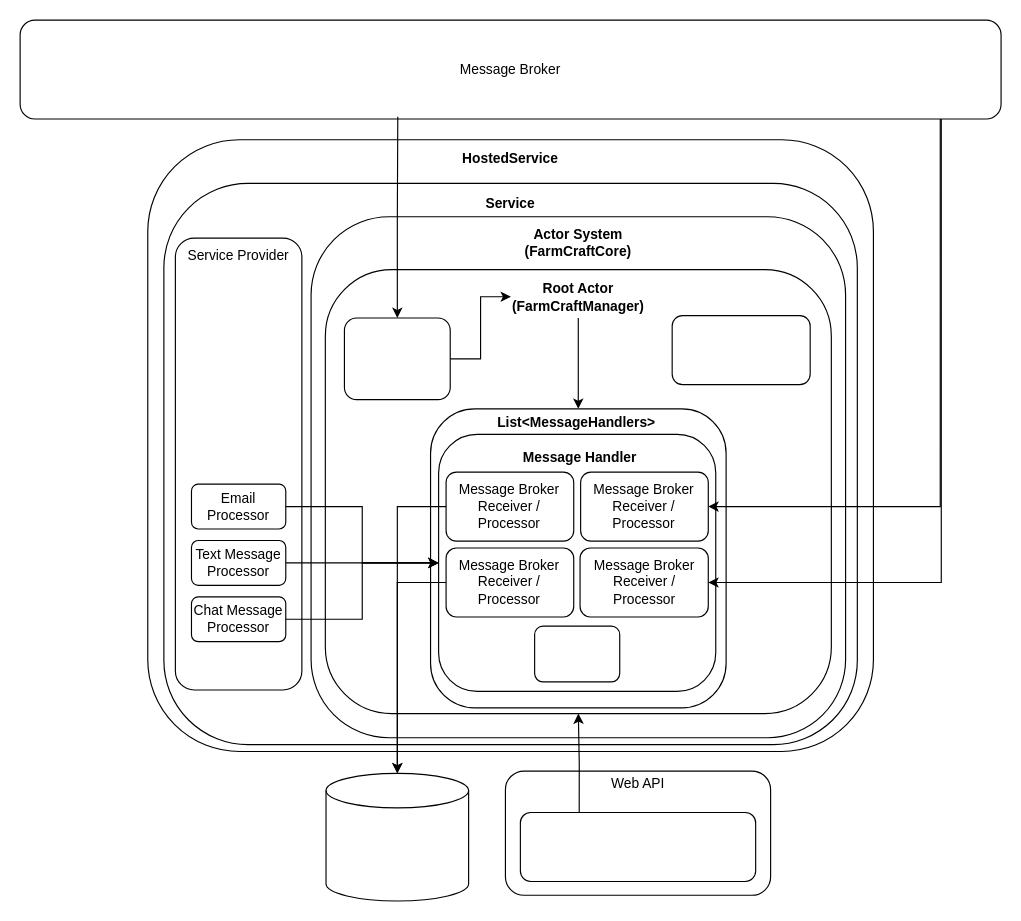
This 1021x921 diagram has some shape labels left out. Here are the shapes that lost their labels. From the top down, the centre of each, then its label:
At (396,358): "Queue Watcher (IActorRef)".
At (740,350): "Message Broker Connection".
At (576,653): "Handler Function".
At (397,836): "Transaction DB".
At (637,846): "Controllers / Endpoints".
